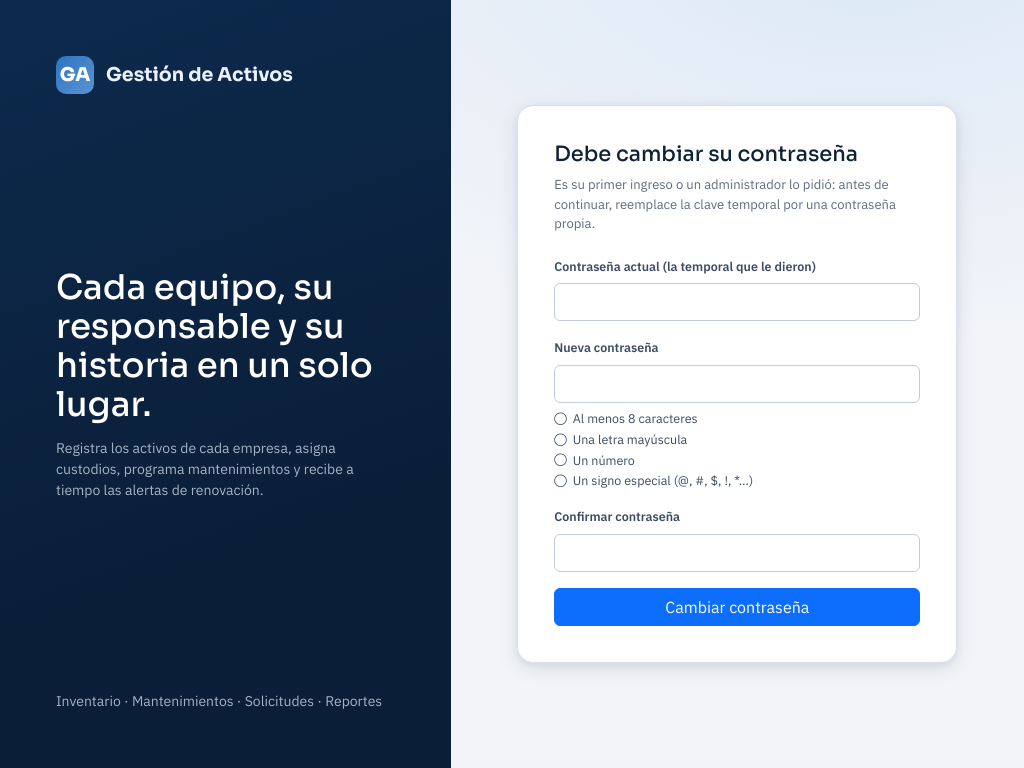
Test case: El cambio de contraseña obligatorio › si la actual no es correcta, lo dice y no navega
This screenshot has width=1024, height=768.
Type "la-temporal" into the password field labelled "Contraseña actual (la temporal que le dieron)". click: (737, 302)
box: [554,284,920,322]
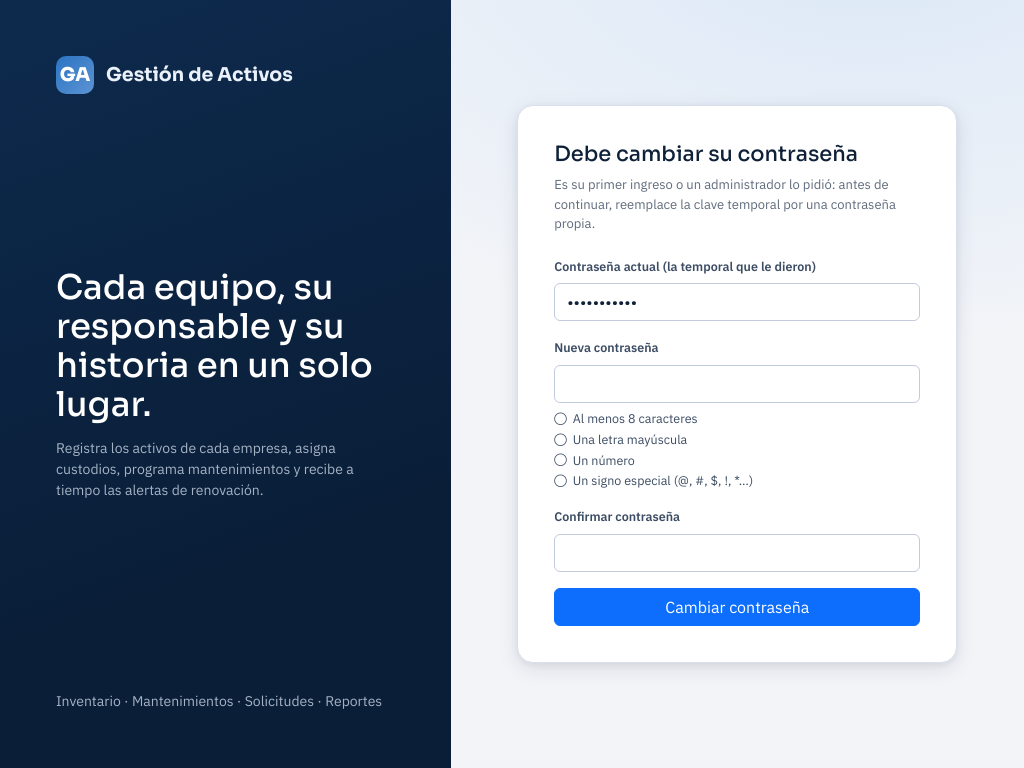
Type "Contraseña.2026" into the password field labelled "Nueva contraseña". click: (737, 384)
box: [554,365,920,403]
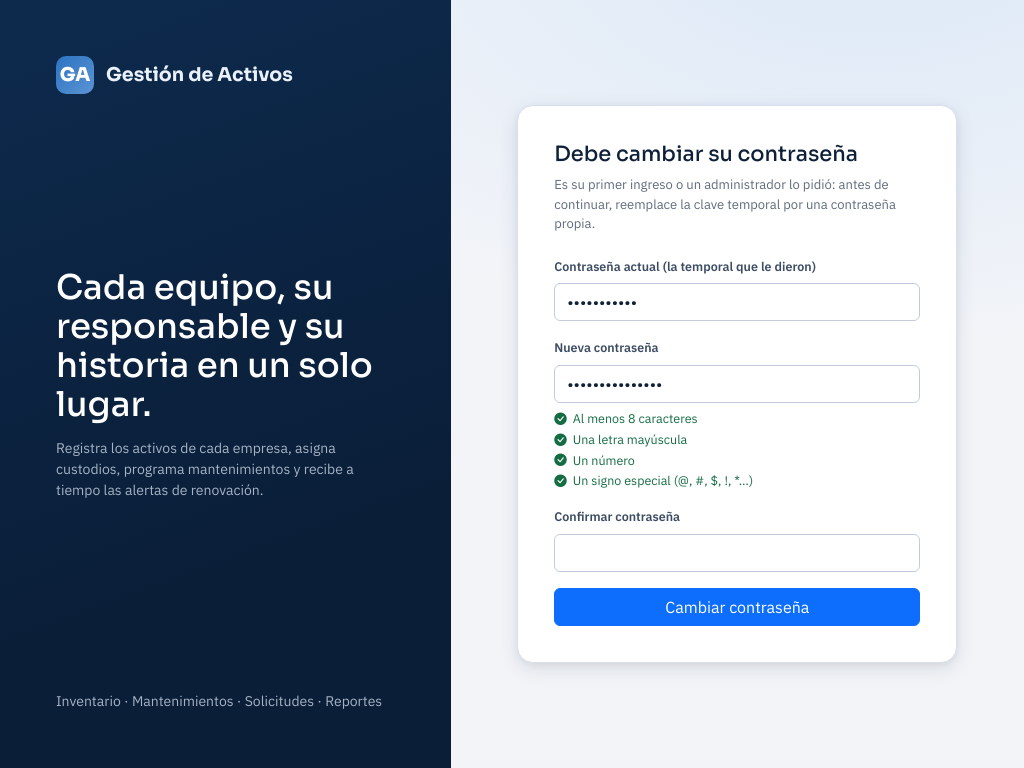
Type "Contraseña.2026" into the password field labelled "Confirmar contraseña". click: (737, 553)
box: [554,534,920,572]
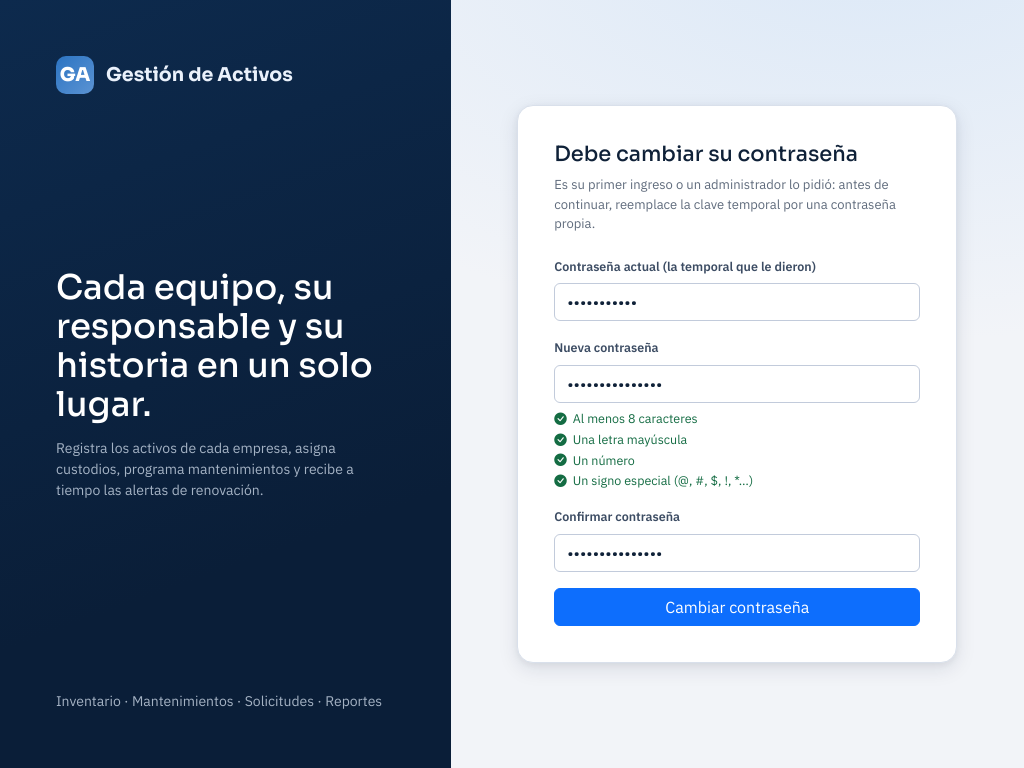
Click the button "Cambiar contraseña". click: (737, 607)
box: [554,588,920,626]
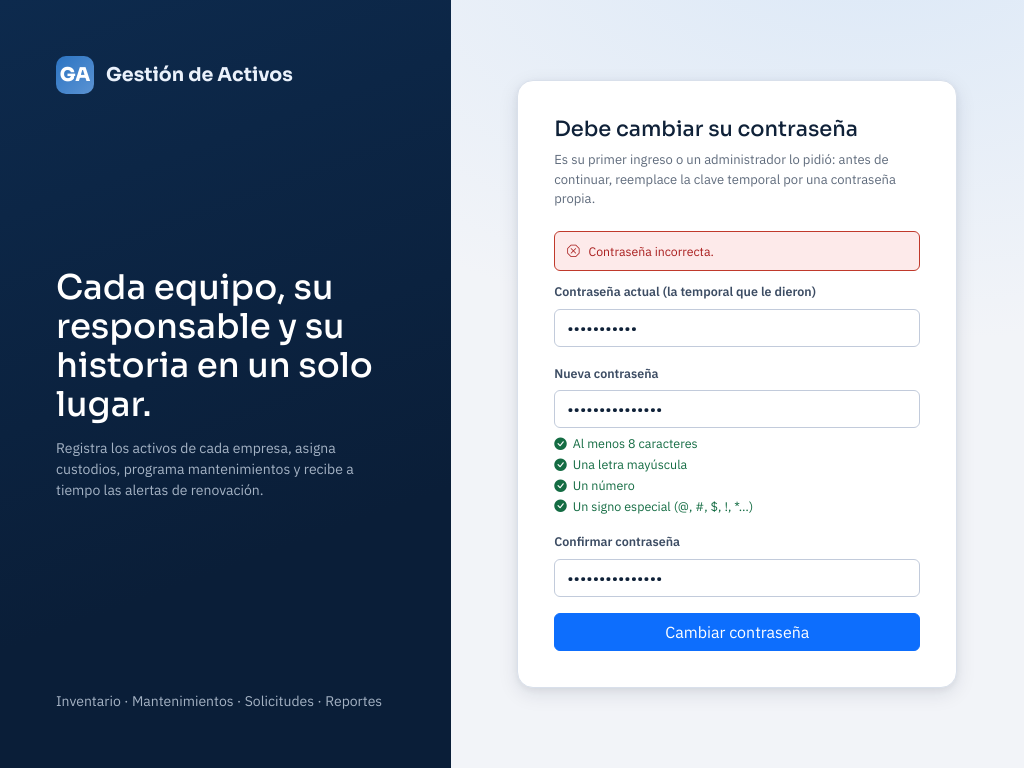
Result: the text "Contraseña incorrecta." is shown at [554,230,920,271]
